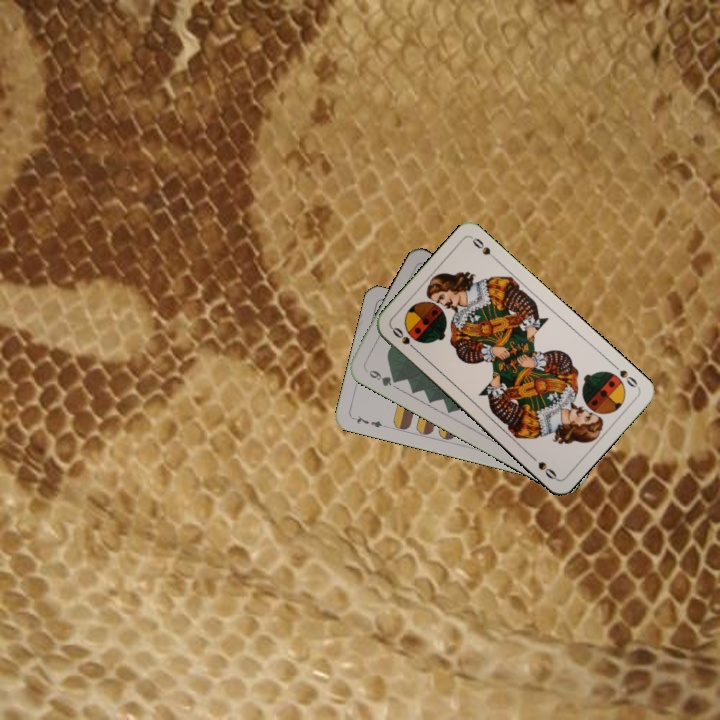E7: (349, 411, 389, 430)
G9: (361, 365, 401, 389)
SO: (387, 323, 420, 354), (609, 360, 642, 391)
